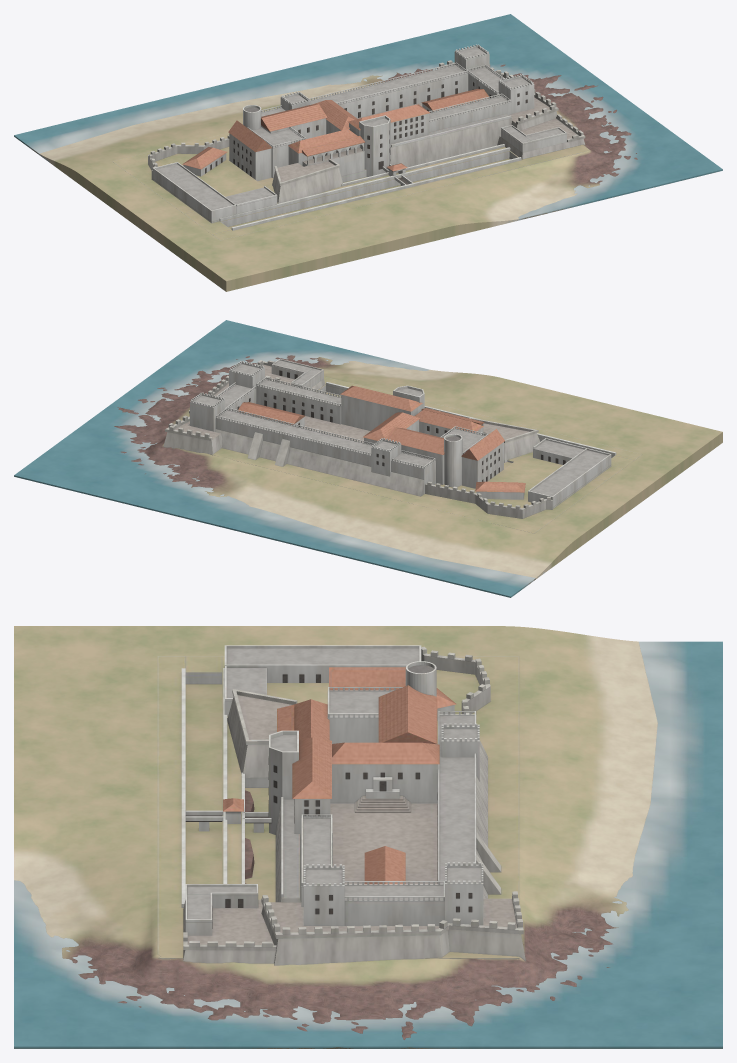
The model's file is elmina-castle.glb.
3 views of the same model, one above another, from view 1: azimuth 30°, elevation 25°; view 2: azimuth 150°, elevation 25°; view 3: azimuth 270°, elevation 25° (orthographic). The views are drawn at different scales.
Parts seen in each view (by area): view 1: terrain_shoreline, castle_walls, towers_roofs, service_yard, ditches_bridge, south_bastion, french_battery, east_bastion; view 2: terrain_shoreline, castle_walls, towers_roofs, service_yard, french_battery, east_bastion, south_bastion, courtyard, ditches_bridge; view 3: terrain_shoreline, castle_walls, towers_roofs, ditches_bridge, east_bastion, service_yard, courtyard, south_bastion, french_battery.
Part boxes in pixels (x1,y1,x2,y2): terrain_shoreline: (14,14,722,291); castle_walls: (229,62,511,203); towers_roofs: (182,44,534,176); service_yard: (152,147,277,223); ditches_bridge: (219,144,521,230); south_bastion: (497,114,585,159); french_battery: (148,135,229,179); east_bastion: (437,60,558,130); terrain_shoreline: (14,320,722,597); castle_walls: (215,377,539,496); towers_roofs: (190,361,525,492); service_yard: (435,438,611,508); french_battery: (425,481,552,518); east_bastion: (163,375,282,454); south_bastion: (255,359,325,393); courtyard: (239,411,370,442); ditches_bridge: (326,382,616,455); terrain_shoreline: (14,626,722,1048); castle_walls: (227,687,501,925); towers_roofs: (268,661,483,925); ditches_bridge: (181,668,275,907); east_bastion: (261,891,525,965); service_yard: (224,645,479,744); courtyard: (330,777,437,884); south_bastion: (183,884,276,963); french_battery: (421,646,490,720).
Bounding box in the file's own units: 1.5 × 0.1672 × 1.11.
Materials: 10 (10 with a texture image).
